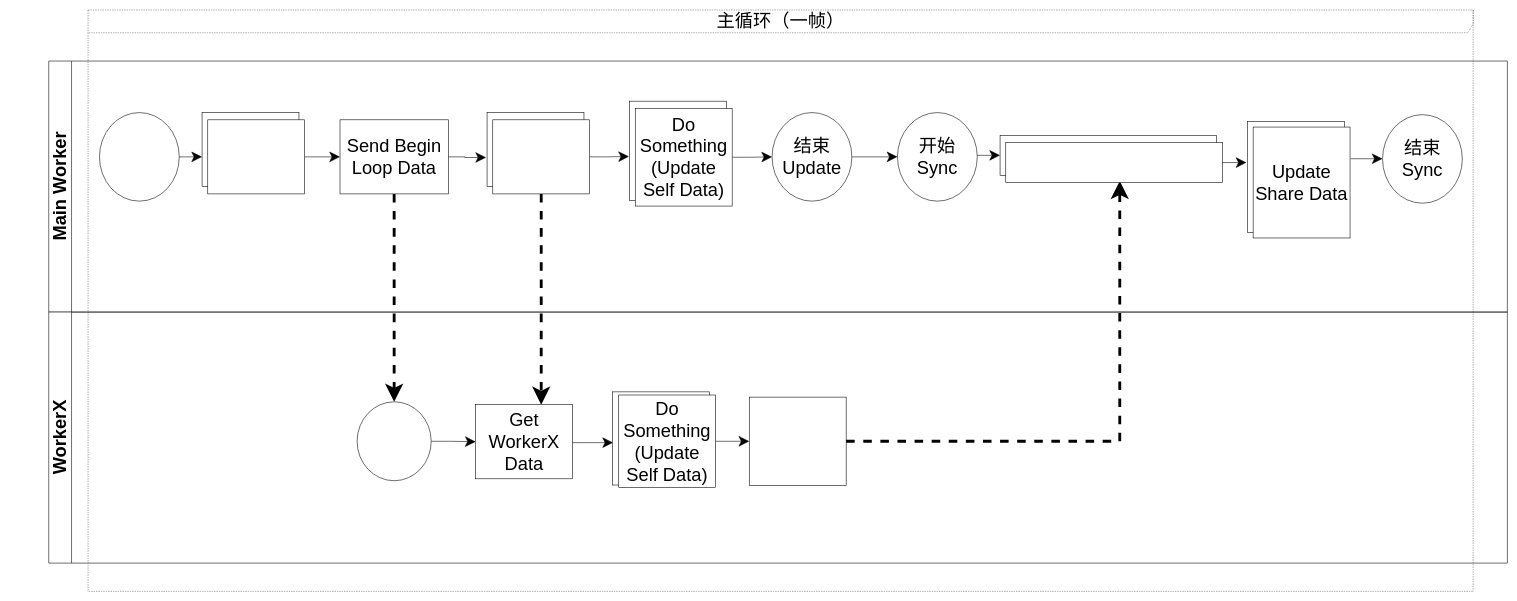
Image size: 1517x601. Some labels were removed from this diagram. Each missing label, with the centre of its shape:
Get Finish WorkerX Data: the point at 1113,162
Send Finish WorkerX Data: the point at 797,441
Send WorkerX Data: the point at 541,156
Update WorkerX Data Buffer: the point at 256,156
开始: the point at 394,441
开始 Update: the point at 139,156
